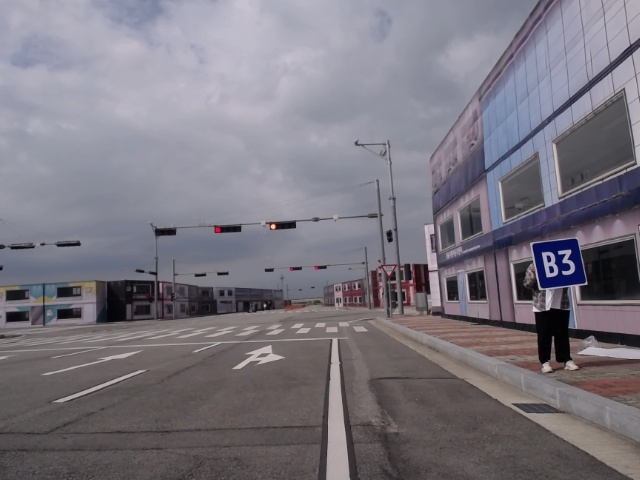delivery_b3: (529, 239, 590, 290)
red_4: (212, 222, 244, 236), (268, 220, 298, 229), (313, 264, 331, 272), (287, 265, 304, 272)
